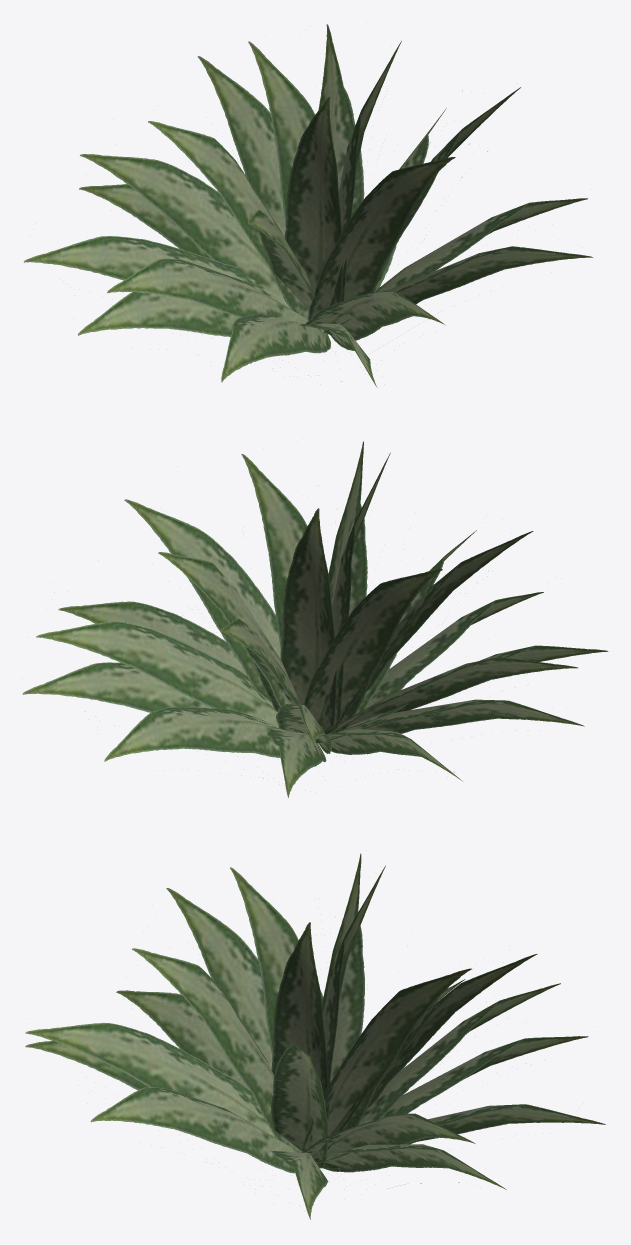
Rendered from plant8.FBX.
3 views of the same model, one above another, from view 1: azimuth 30°, elevation 25°; view 2: azimuth 150°, elevation 25°; view 3: azimuth 270°, elevation 25° (orthographic). The views are drawn at different scales.
Parts seen in each view (by area): view 1: plant8; view 2: plant8; view 3: plant8.
Part boxes in pixels (bbox=[...]): plant8: bbox=[24, 24, 592, 387]; plant8: bbox=[22, 441, 608, 797]; plant8: bbox=[25, 853, 605, 1219].
Size of the model in its own units: 4.1 by 2.28 by 3.94.
